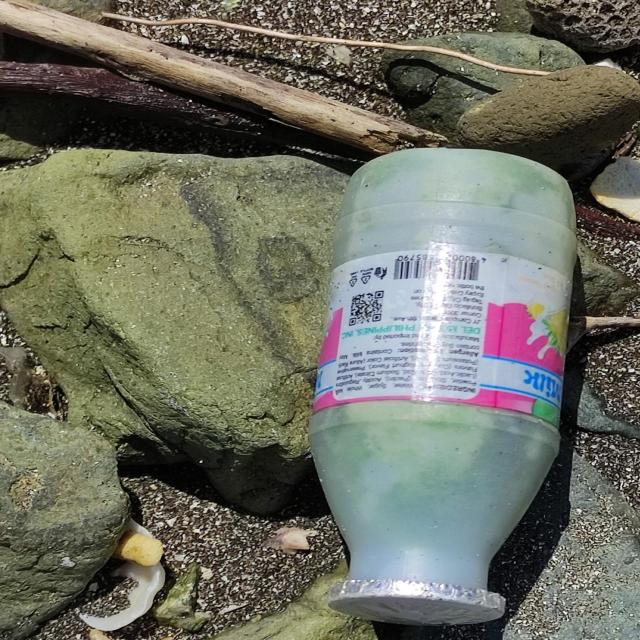plastic_waste: (306, 145, 580, 635)
